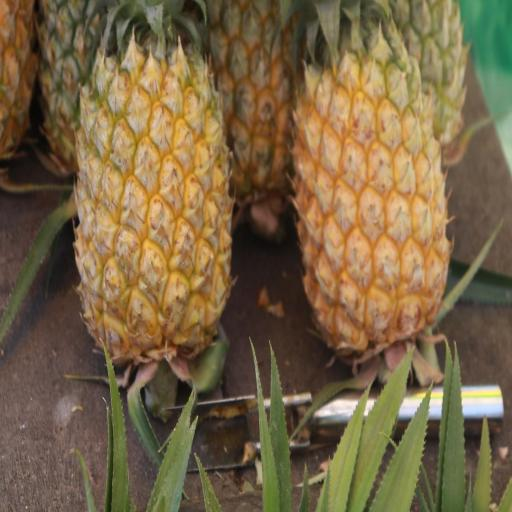Pineapple - v8 v1: (68, 0, 239, 397), (287, 0, 457, 375)
